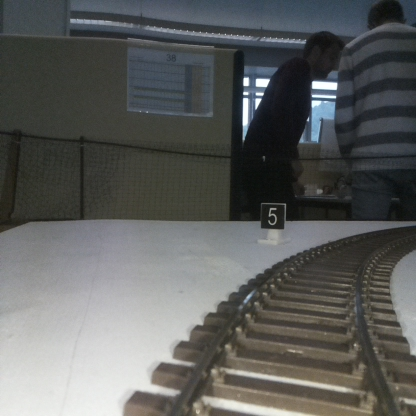black-stop-5: (261, 203, 284, 242)
